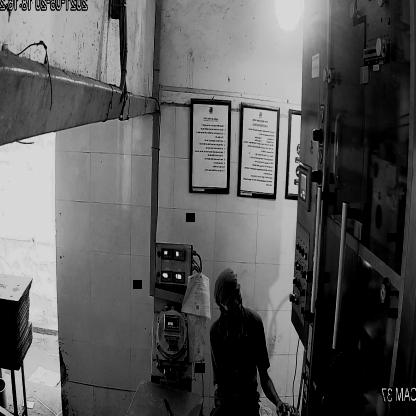goggles: (220, 285, 243, 313)
